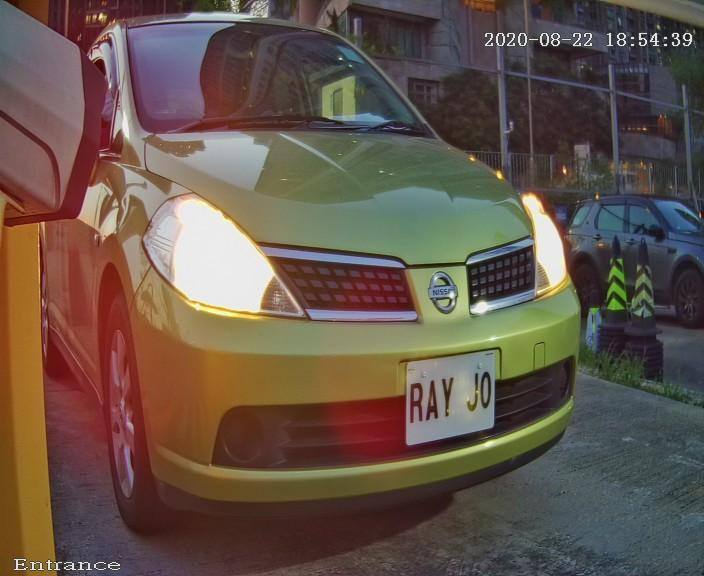Car: (17, 1, 655, 561)
License Plate: (387, 343, 507, 448)
